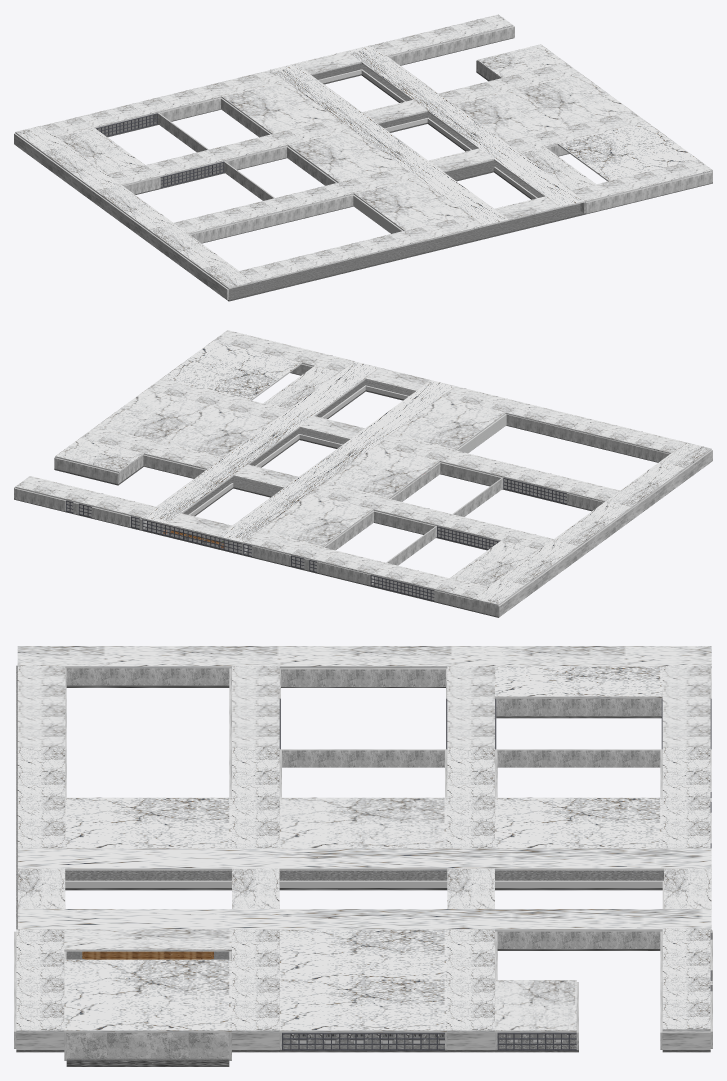
Rendered from UCC.fbx.
3 renders of one model, top to bottom at view 1: azimuth 30°, elevation 25°; view 2: azimuth 150°, elevation 25°; view 3: azimuth 270°, elevation 25°, orthographic. The views are drawn at different scales.
Parts seen in each view (by area): view 1: roof-col.025, roof-col.007, roof-col.010, roof-col.003, roof-col.028, roof-col.026, roof-col, roof-col.008, right_wall.066, roof-col.015, roof-col.004, roof-col.006 (+40 smaller); view 2: roof-col.025, roof-col.007, roof-col.010, roof-col.003, roof-col.026, roof-col.028, roof-col, roof-col.008, roof-col.015, right_wall.066, roof-col.020, roof-col.006 (+42 smaller); view 3: roof-col.010, roof-col.025, roof-col.007, roof-col.003, roof-col, roof-col.026, roof-col.028, roof-col.008, roof-col.027, corridor_floor-col.004, roof-col.015, roof-col.029 (+39 smaller).
Part boxes in pixels (x1,y1,x2,y2): roof-col.025: (15,125,253,289); roof-col.007: (347,45,585,208); roof-col.010: (270,63,508,226); roof-col.003: (557,121,697,181); roof-col.028: (353,177,468,230); roof-col.026: (221,81,336,134); roof-col: (517,73,631,126); roof-col.008: (453,89,567,141); right_wall.066: (14,133,228,300); roof-col.015: (287,129,366,182); roof-col.004: (571,159,712,202); roof-col.006: (371,14,512,56); roof-col.025: (472,442,711,605); roof-col.007: (141,361,379,525); roof-col.010: (217,380,455,543); roof-col.003: (161,341,301,400); roof-col.026: (258,494,373,547); roof-col.028: (391,397,505,450); roof-col: (95,389,209,442); roof-col.008: (159,405,273,457); roof-col.015: (330,446,439,498); right_wall.066: (498,450,712,616); roof-col.020: (243,531,385,574); roof-col.006: (15,476,156,518); roof-col.010: (17,848,711,870); roof-col.025: (17,646,711,668); roof-col.007: (17,909,711,931); roof-col.003: (64,959,231,1032); roof-col: (279,980,447,1032); roof-col.026: (495,797,662,848); roof-col.028: (65,797,231,848); roof-col.008: (279,929,447,979); roof-col.027: (279,797,447,848); corridor_floor-col.004: (16,868,663,890); roof-col.015: (279,797,446,848); roof-col.029: (495,666,662,698).
Size of the model in its own units: 383 by 292 by 16.
47 materials, 43 textured.
